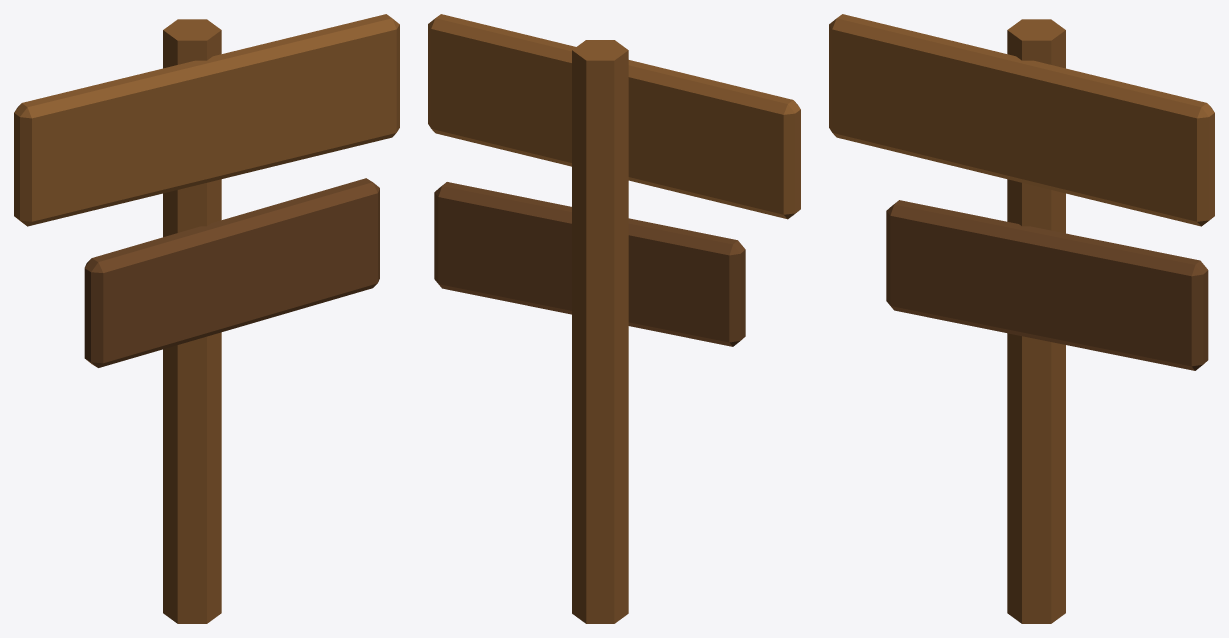
File: signpost.glb
3 views of the same model, side by side, from view 1: azimuth 30°, elevation 25°; view 2: azimuth 150°, elevation 25°; view 3: azimuth 330°, elevation 25° (orthographic). The views are drawn at different scales.
Visible parts, largest first — view 1: g_m_8a5a2b, g_m_6b4423; view 2: g_m_8a5a2b, g_m_6b4423; view 3: g_m_8a5a2b, g_m_6b4423.
Part boxes in pixels (bbox=[...]): g_m_8a5a2b: bbox=[14, 14, 399, 623]; g_m_6b4423: bbox=[84, 178, 379, 367]; g_m_8a5a2b: bbox=[428, 14, 800, 623]; g_m_6b4423: bbox=[434, 182, 745, 346]; g_m_8a5a2b: bbox=[829, 14, 1214, 623]; g_m_6b4423: bbox=[886, 200, 1208, 370].
Size of the model in its own units: 1.5 by 2.2 by 0.2954.
